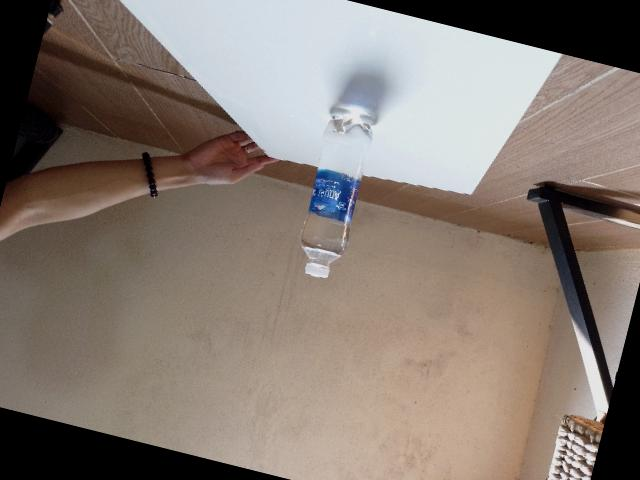aquafina: (299, 114, 371, 276)
